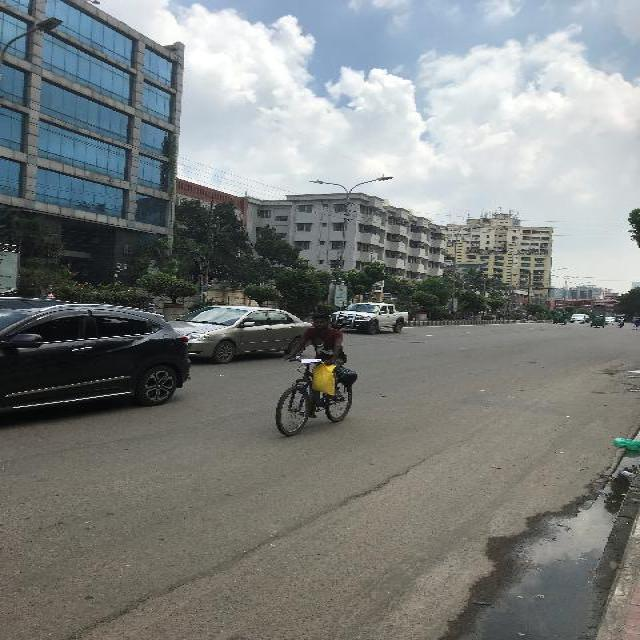car: (0, 293, 192, 413), (165, 303, 312, 362), (568, 313, 583, 323), (604, 315, 611, 324)
motorcycle: (589, 314, 604, 327), (552, 311, 565, 324), (616, 316, 624, 327)
truck: (328, 301, 409, 335)
